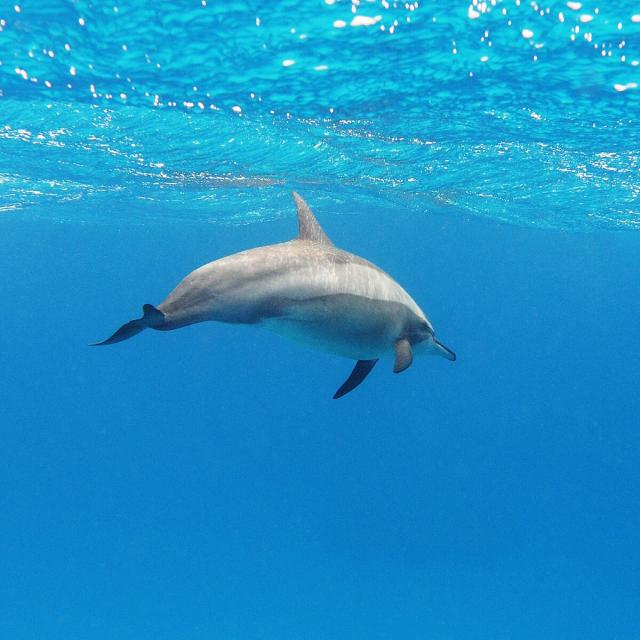dolphin: (92, 192, 456, 398)
